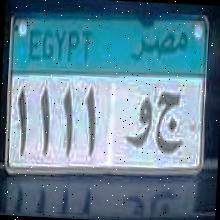1: (33, 86, 57, 158), (80, 83, 102, 155), (56, 82, 77, 157), (12, 86, 32, 156)
jeem: (154, 88, 184, 157)
waw: (124, 90, 153, 153)
